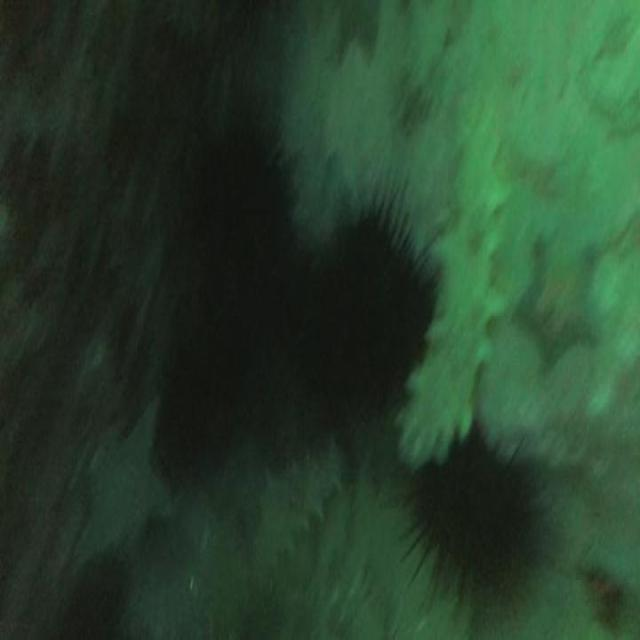echinus: (324, 202, 432, 410), (416, 440, 524, 600)
holothurian: (400, 89, 508, 484), (262, 431, 342, 561)
starfish: (76, 396, 176, 574), (520, 234, 602, 370)
